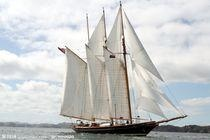fanchuan: (57, 2, 191, 135)
